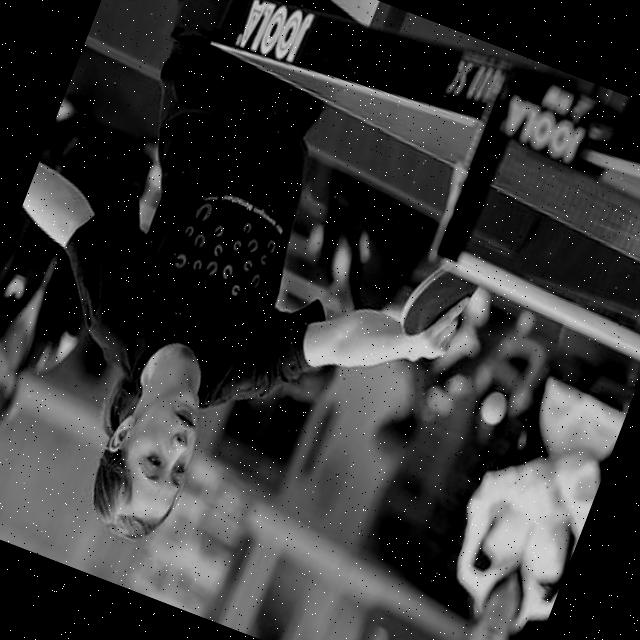ping-pong-ball: (473, 384, 513, 431)
